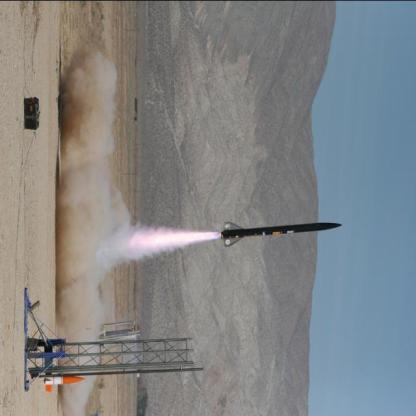MIL_TBM: (212, 218, 348, 245), (46, 374, 87, 388)
